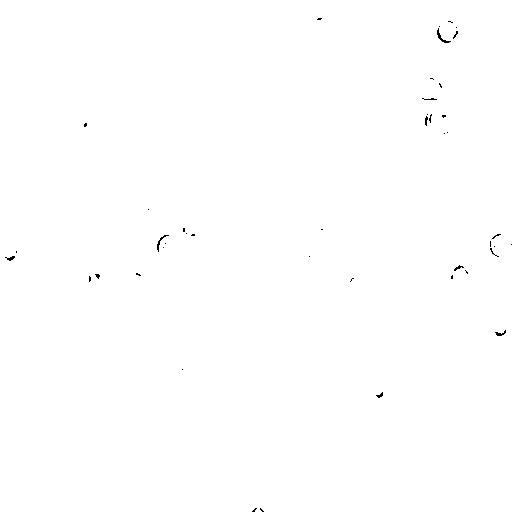micro-algae: (189, 84, 298, 200), (179, 51, 243, 114), (207, 108, 268, 169), (91, 131, 147, 185), (85, 319, 120, 353), (385, 283, 419, 316), (425, 105, 456, 137), (76, 113, 104, 146), (155, 232, 183, 263), (414, 76, 445, 103), (143, 249, 171, 278), (32, 467, 60, 495), (323, 290, 347, 318), (489, 232, 512, 261), (153, 429, 180, 452), (345, 273, 369, 297), (449, 264, 472, 289), (309, 16, 336, 36), (437, 20, 460, 43), (177, 353, 200, 376), (179, 494, 208, 511), (309, 227, 330, 246), (170, 119, 186, 143), (381, 44, 401, 63), (392, 443, 411, 463), (239, 0, 261, 17), (141, 201, 159, 220), (344, 329, 362, 348), (181, 221, 199, 239), (356, 221, 375, 238), (2, 242, 18, 262), (311, 501, 343, 511), (87, 269, 103, 288), (177, 301, 194, 317), (492, 320, 508, 337), (307, 247, 324, 262), (129, 271, 143, 287), (373, 381, 384, 398), (474, 0, 497, 7), (246, 503, 266, 511)
